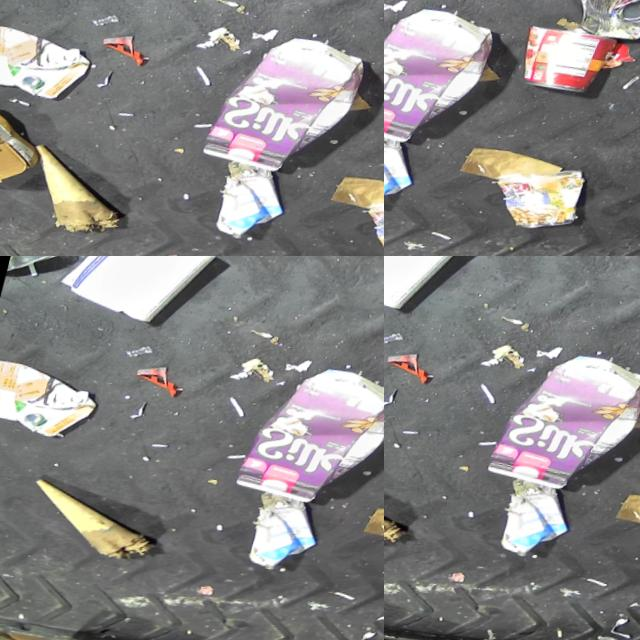can: (513, 26, 620, 116), (487, 162, 591, 254), (568, 0, 640, 64), (5, 256, 78, 287)
non_white_jug: (200, 25, 375, 200), (483, 342, 640, 518), (233, 355, 384, 531), (384, 0, 504, 171), (0, 344, 109, 452), (0, 7, 95, 117)
